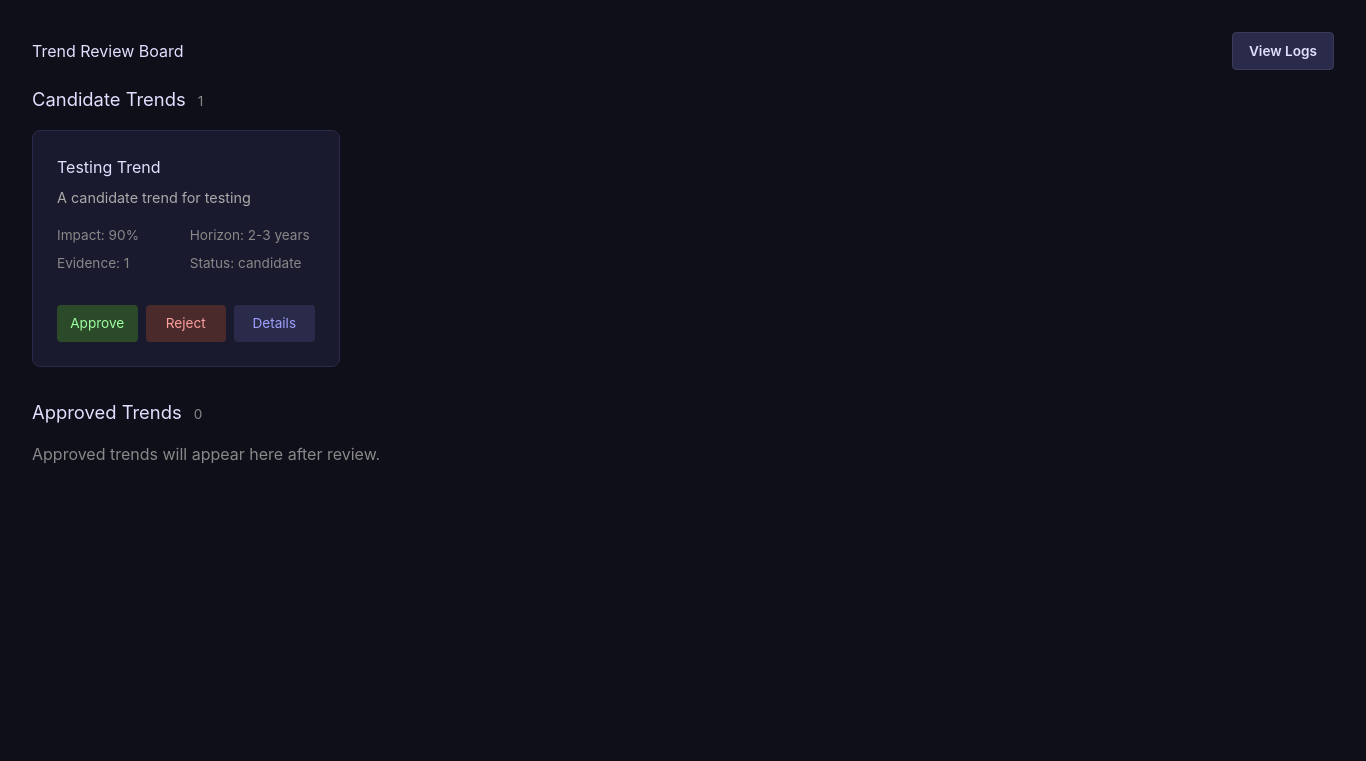
Test: TrendReviewBoard › shows detailed strategic fields and evidence on Details click
Click the button "Details".
click(274, 324)  # box [234,305,314,342]
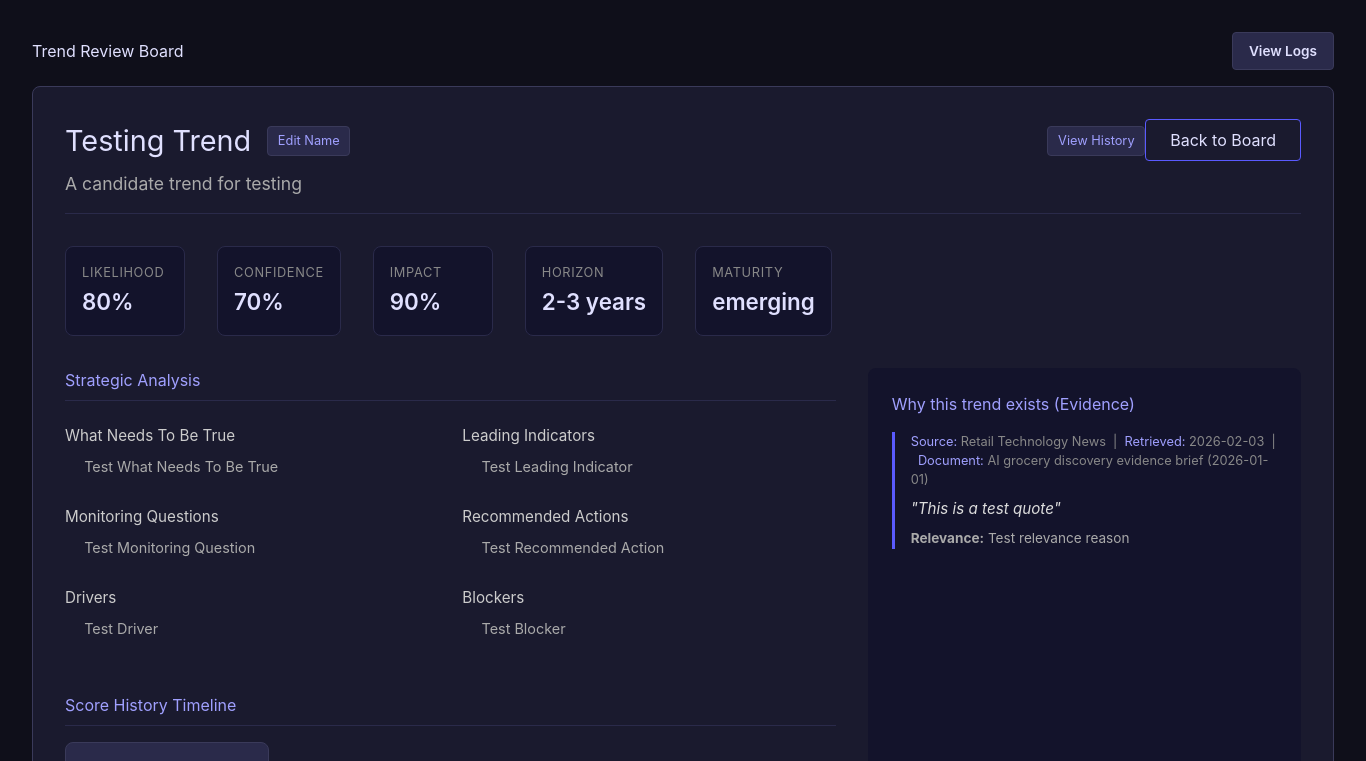
Expected: the heading "Strategic Analysis" is shown, [65,368,836,401]
Expected: the heading "What Needs To Be True" is shown, [65,426,235,445]
Expected: the heading "Leading Indicators" is shown, [462,426,595,445]
